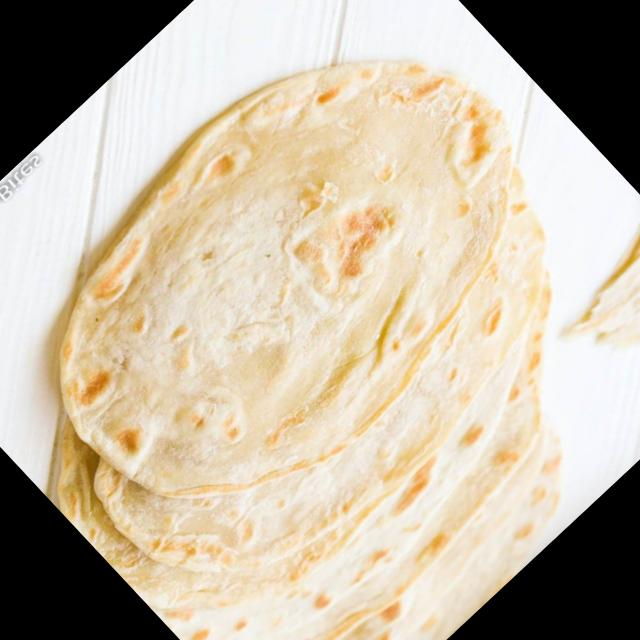roti: (46, 53, 566, 640)
